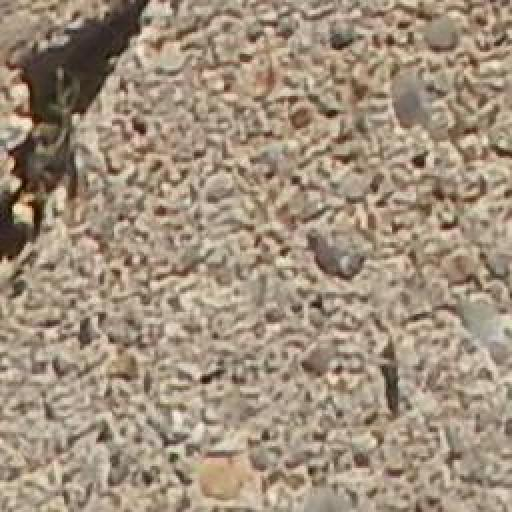spalling: (2, 4, 190, 299)
